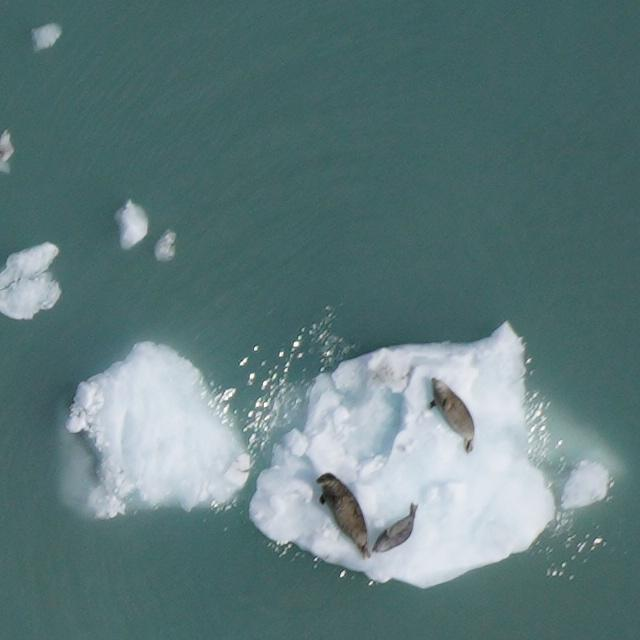seal: (308, 465, 387, 567), (416, 373, 491, 456)
